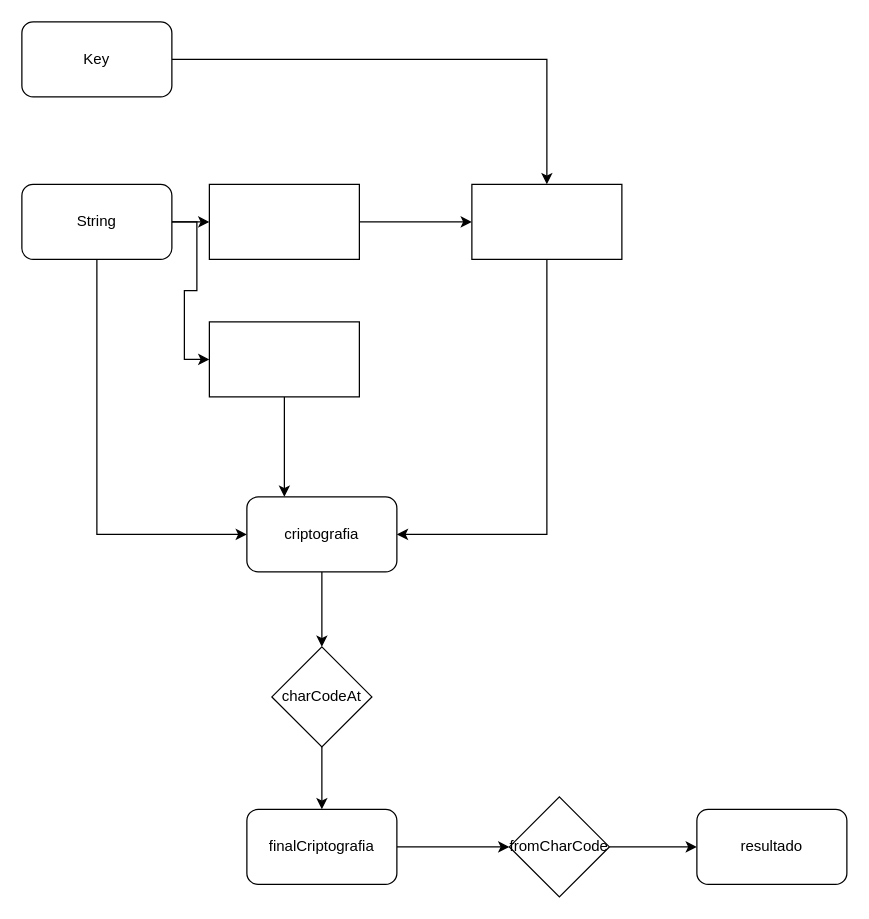
Some shapes in this 869 by 919 pixel diagram are drawn without their labels. The shapes that lost their labels are listed below. From the top down, each one's box as (x1, y1, x2, y2) in pixels, then its label:
(208, 183, 359, 259): index
(471, 183, 622, 259): cifra
(208, 321, 359, 397): .length
